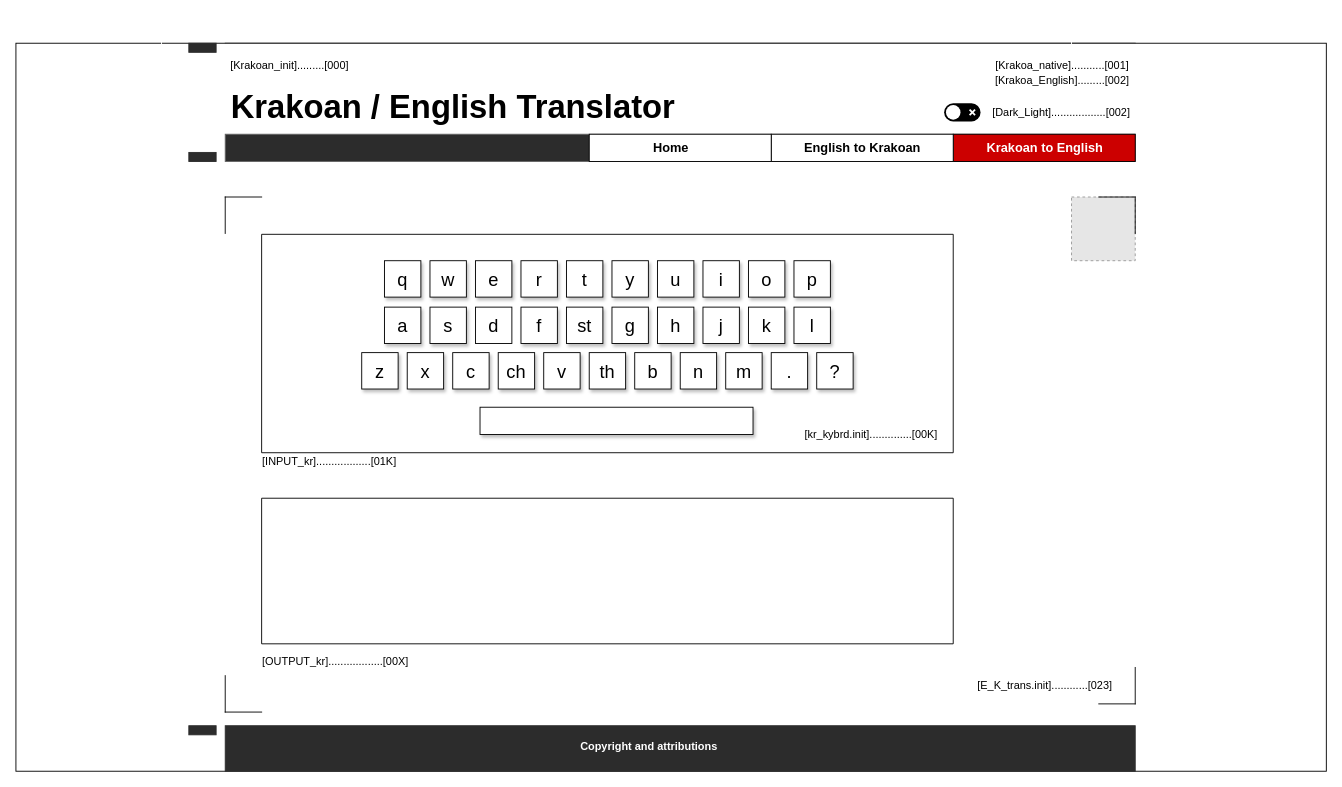
The diagram is 1342 pixels wide and 787 high, and some of its shapes have lost their labels. Grey dashed boxes stand in for pictures. The shapes that lost their labels are listed below. From the top down, each one's centre as x and y in pixels, then its label:
the point at 616,422: space
the point at 607,570: Output English
